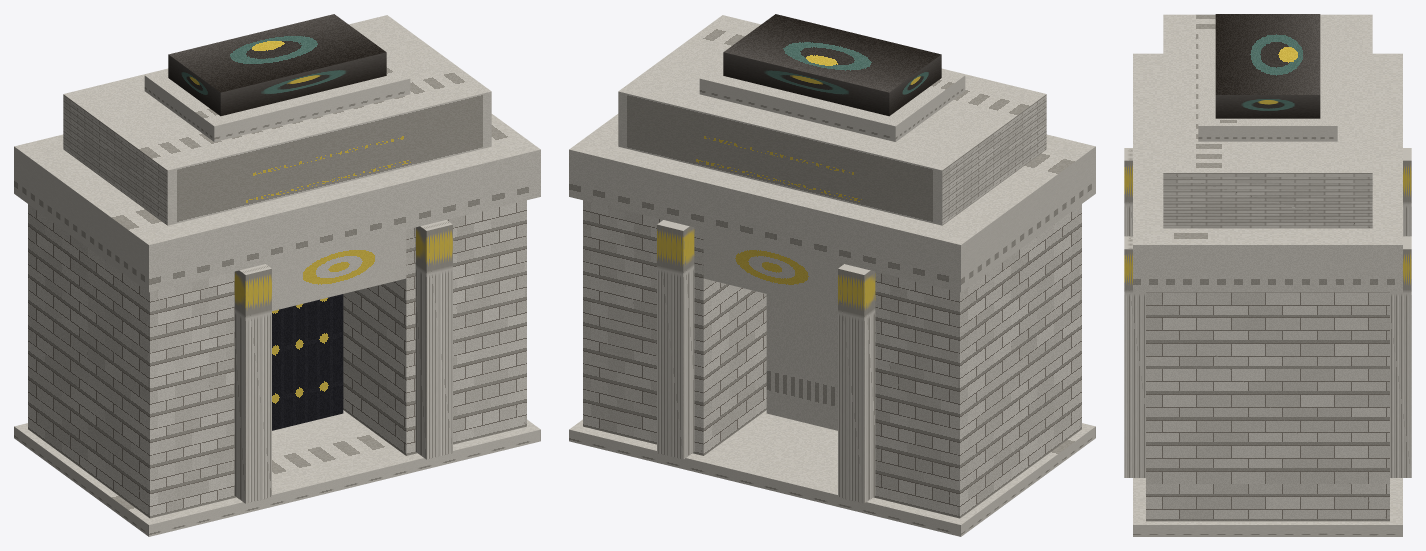
Rendered from landmark_wellington_arch.glb.
3 views of the same model, side by side, from view 1: azimuth 30°, elevation 25°; view 2: azimuth 150°, elevation 25°; view 3: azimuth 270°, elevation 25° (orthographic).
Parts seen in each view (by area): view 1: Landmark_Wellington_Arch; view 2: Landmark_Wellington_Arch; view 3: Landmark_Wellington_Arch.
Part boxes in pixels (<box>): Landmark_Wellington_Arch: <box>14,14,540,536</box>; Landmark_Wellington_Arch: <box>569,14,1095,536</box>; Landmark_Wellington_Arch: <box>1124,14,1411,536</box>.
Size of the model in its own units: 10.4 by 9.8 by 6.6.
Materials: 1 (1 with a texture image).
